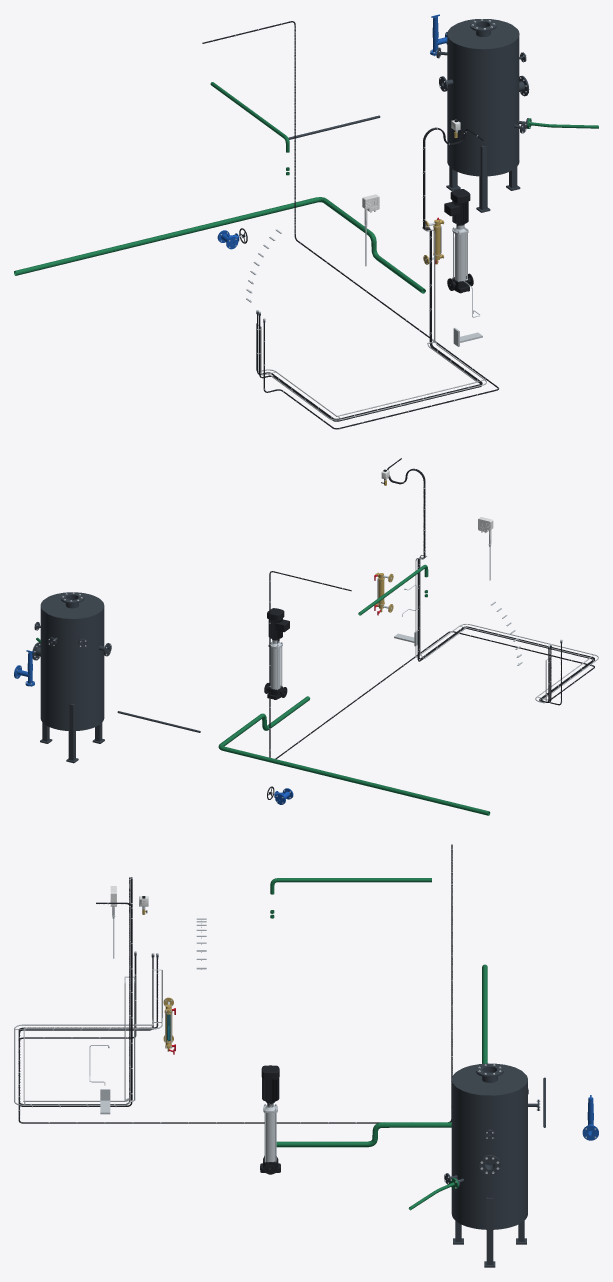
The model's file is s4000-3-CTstJqo6.glb.
The picture shows the model from 3 angles, top to bottom: view 1: azimuth 30°, elevation 25°; view 2: azimuth 150°, elevation 25°; view 3: azimuth 270°, elevation 25°; orthographic projection. The views are drawn at different scales.
Visible parts, largest first — view 1: separator_bdv60_5 / dark, suction_common / green, mod_direct_drive_cable / black, cables / zinc, wiring_pressure_switch_2 / black, wiring_pressure_switch_1 / black, pump_1 CAD solid 15; view 2: separator_bdv60_5 / dark, suction_common / green, cables / zinc, mod_direct_drive_cable / black, wiring_pressure_switch_2 / black, wiring_pressure_switch_1 / black, pump_1 CAD solid 15; view 3: separator_bdv60_5 / dark, cables / zinc, suction_common / green, mod_direct_drive_cable / black, wiring_pressure_switch_2 / black, wiring_pressure_switch_1 / black, direct_inlet / green, pump_1 CAD solid 15.
Boxes of the visible parts, box(x1,y1,x2,y2) form: separator_bdv60_5 / dark: box(436, 19, 529, 212); suction_common / green: box(14, 197, 425, 293); mod_direct_drive_cable / black: box(202, 21, 498, 429); cables / zinc: box(256, 226, 486, 420); wiring_pressure_switch_2 / black: box(257, 128, 482, 419); wiring_pressure_switch_1 / black: box(259, 127, 483, 421); pump_1 CAD solid 15: box(444, 189, 470, 224); separator_bdv60_5 / dark: box(32, 592, 111, 763); suction_common / green: box(218, 696, 490, 815); cables / zinc: box(415, 555, 598, 703); mod_direct_drive_cable / black: box(269, 571, 594, 759); wiring_pressure_switch_2 / black: box(388, 465, 594, 702); wiring_pressure_switch_1 / black: box(387, 458, 594, 702); pump_1 CAD solid 15: box(267, 608, 289, 639); separator_bdv60_5 / dark: box(444, 1063, 539, 1267); cables / zinc: box(14, 969, 162, 1105); suction_common / green: box(276, 964, 487, 1147); mod_direct_drive_cable / black: box(18, 844, 452, 1123); wiring_pressure_switch_2 / black: box(18, 877, 158, 1104); wiring_pressure_switch_1 / black: box(18, 877, 153, 1106); direct_inlet / green: box(270, 878, 431, 894); pump_1 CAD solid 15: box(261, 1065, 279, 1102).
Bounding box in the file's own units: 6.71 × 2.87 × 5.87.
